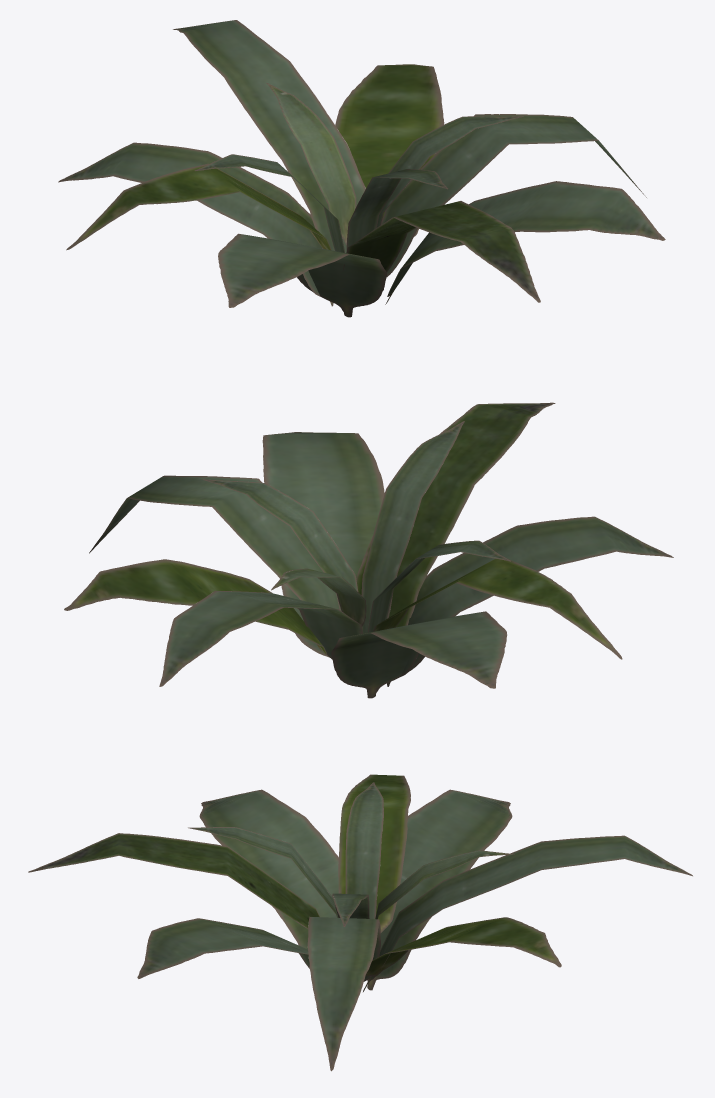
File: ST_Plants.fbx
3 renders of one model, top to bottom at view 1: azimuth 30°, elevation 25°; view 2: azimuth 150°, elevation 25°; view 3: azimuth 270°, elevation 25°, orthographic. The views are drawn at different scales.
Visible parts, largest first — view 1: Plants; view 2: Plants; view 3: Plants.
Boxes of the visible parts, <box> form: Plants: <box>58,20,665,317</box>; Plants: <box>64,402,673,698</box>; Plants: <box>28,774,692,1071</box>.
Size of the model in its own units: 73.41 by 25.27 by 82.82.
